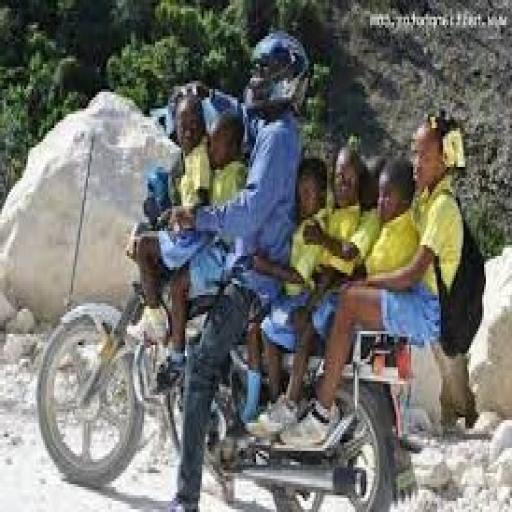helmet: (247, 28, 310, 111)
